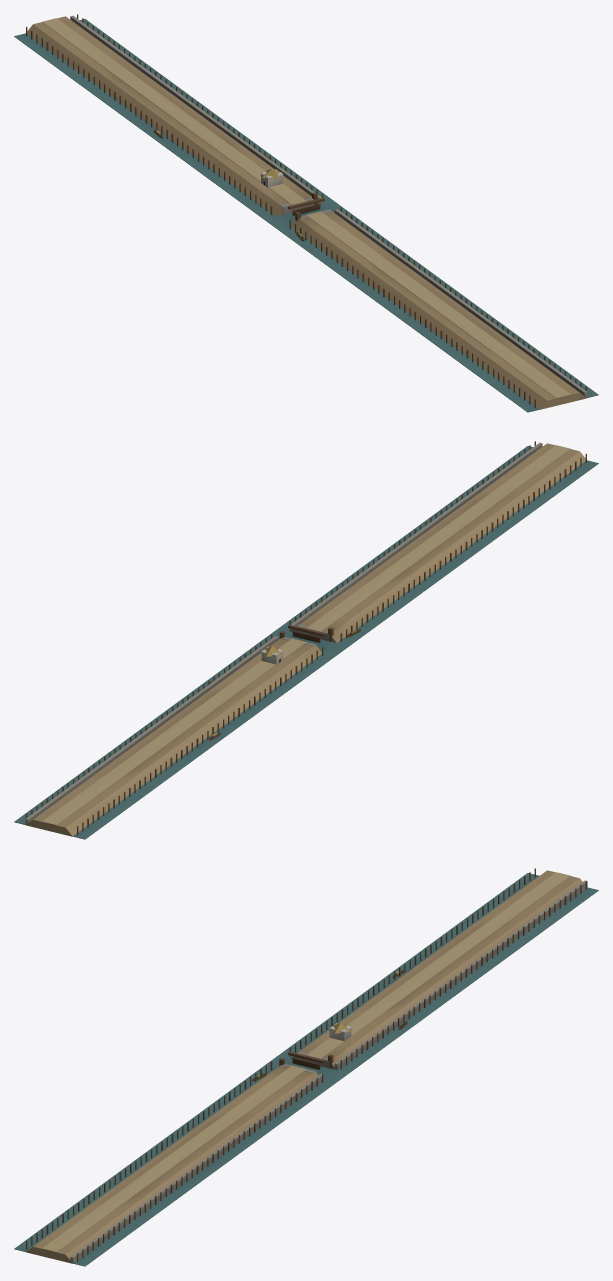
The model's file is dike.glb.
The picture shows the model from 3 angles, top to bottom: view 1: azimuth 30°, elevation 25°; view 2: azimuth 150°, elevation 25°; view 3: azimuth 330°, elevation 25°; orthographic projection.
Visible parts, largest first — view 1: p0_embankment, p1_facing, p2_sluice; view 2: p0_embankment, p1_facing, p2_sluice; view 3: p0_embankment, p1_facing, p2_sluice.
Boxes of the visible parts, x1,y1,x2,y2 form: p0_embankment: [14, 16, 598, 412]; p1_facing: [26, 14, 587, 407]; p2_sluice: [153, 129, 332, 241]; p0_embankment: [14, 443, 598, 839]; p1_facing: [25, 441, 586, 835]; p2_sluice: [205, 624, 360, 740]; p0_embankment: [14, 870, 598, 1266]; p1_facing: [26, 868, 587, 1263]; p2_sluice: [252, 970, 407, 1081].
Bounding box in the file's own units: 24.01 × 7.12 × 300.
